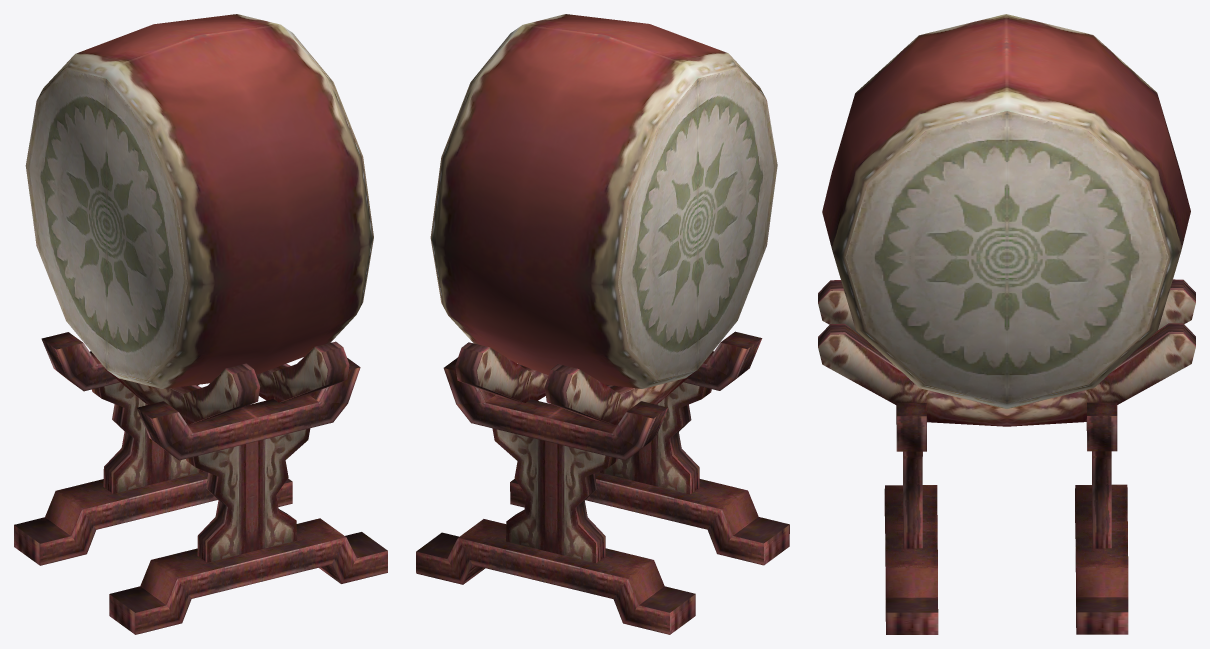
Rendered from City_bujian_07.fbx.
3 renders of one model, left to right at view 1: azimuth 30°, elevation 25°; view 2: azimuth 150°, elevation 25°; view 3: azimuth 270°, elevation 25°, orthographic.
Visible parts, largest first — view 1: City_1_2017_3_7_2:City_1_2017_3_7_2:polySurface3509; view 2: City_1_2017_3_7_2:City_1_2017_3_7_2:polySurface3509; view 3: City_1_2017_3_7_2:City_1_2017_3_7_2:polySurface3509.
Part boxes in pixels (x1,y1,x2,y2): City_1_2017_3_7_2:City_1_2017_3_7_2:polySurface3509: (14,14,387,634); City_1_2017_3_7_2:City_1_2017_3_7_2:polySurface3509: (416,14,789,634); City_1_2017_3_7_2:City_1_2017_3_7_2:polySurface3509: (818,14,1195,634).
Size of the model in its own units: 1.68 by 3.33 by 2.16.
Materials: 1 (1 with a texture image).
